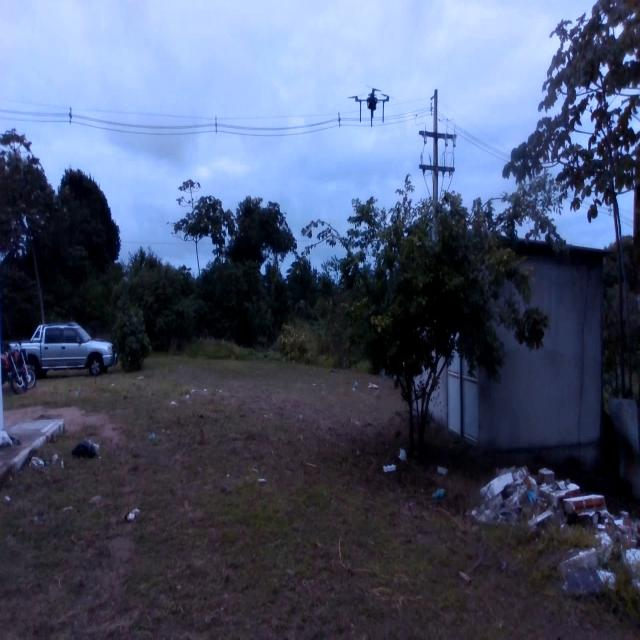-uav-: (343, 78, 395, 134)
